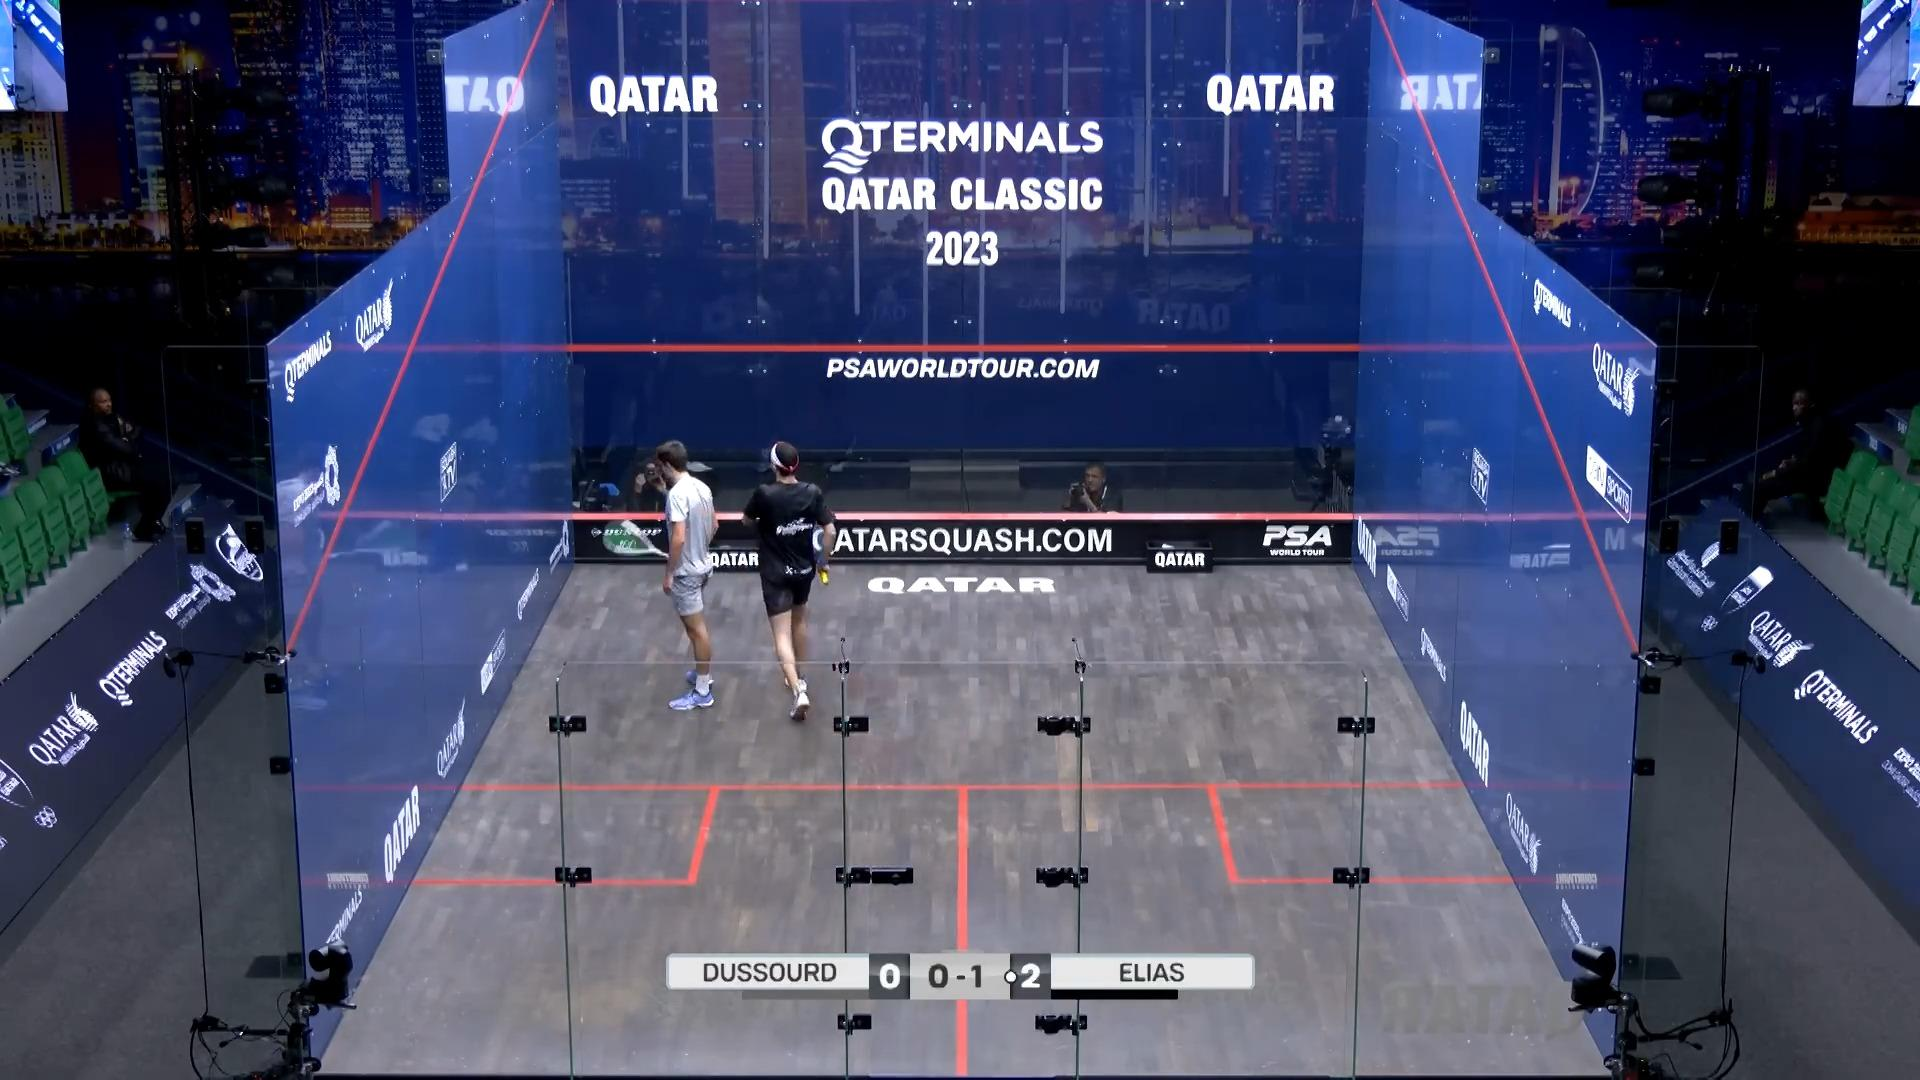Racket: (597, 513, 666, 564)
